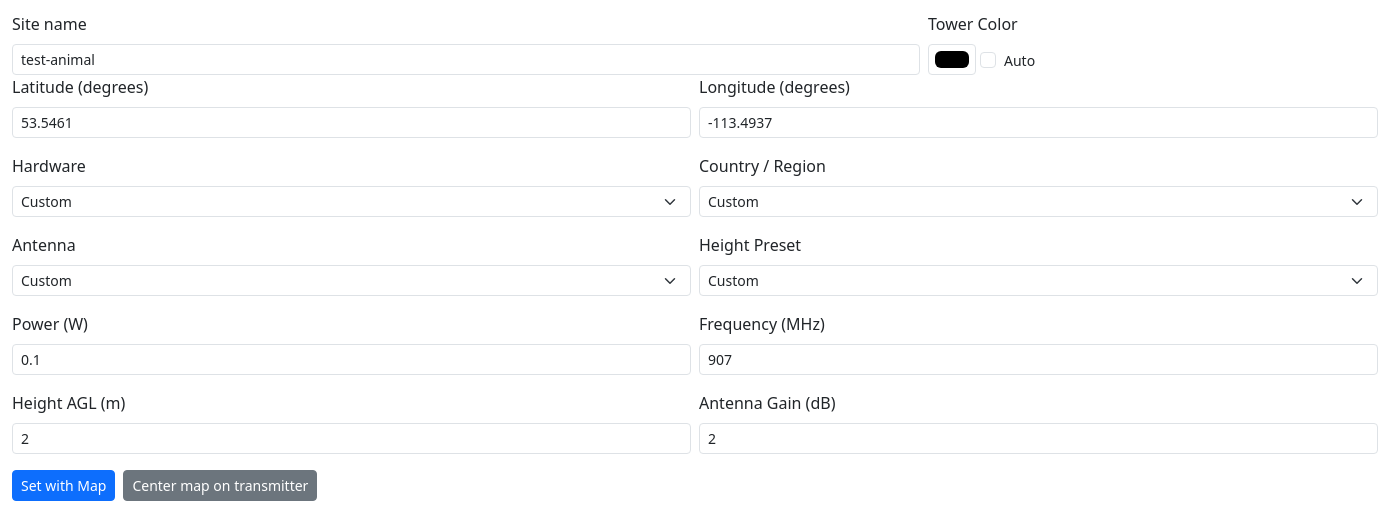
Test: Transmitter.vue › disables tx_power field when hardware preset active
The image size is (1390, 518).
Select "Heltec V3 (22 dBm)" in the dropdown with id "hardwarePreset": [352, 202] box [12,186,691,217]
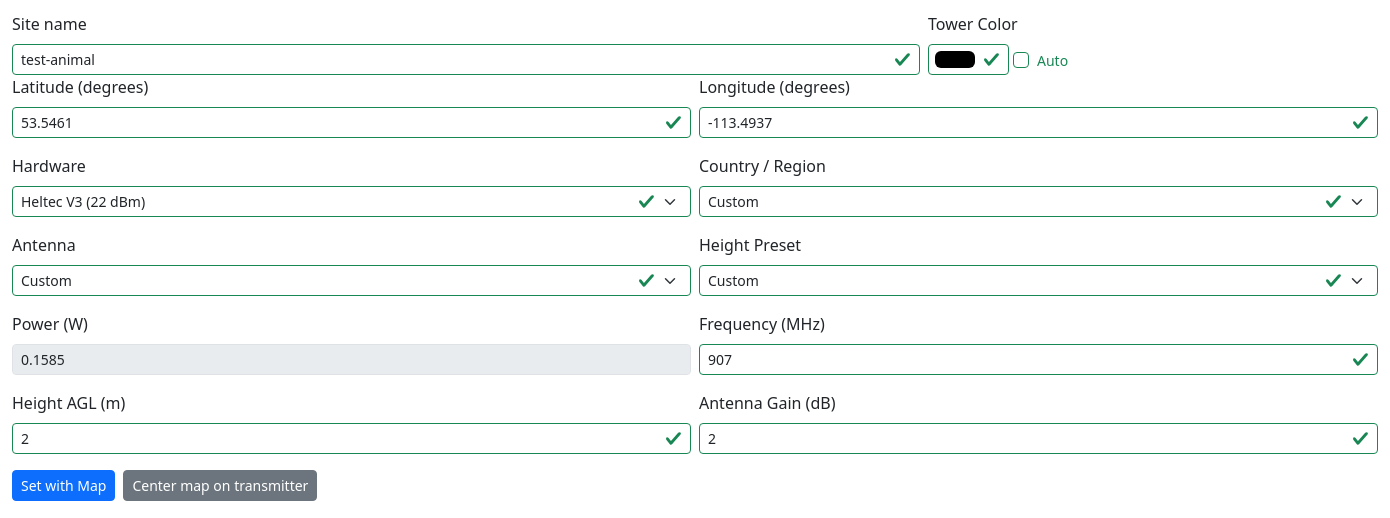
Now the number field with id "tx_power" is disabled, box [12,344,691,375]
